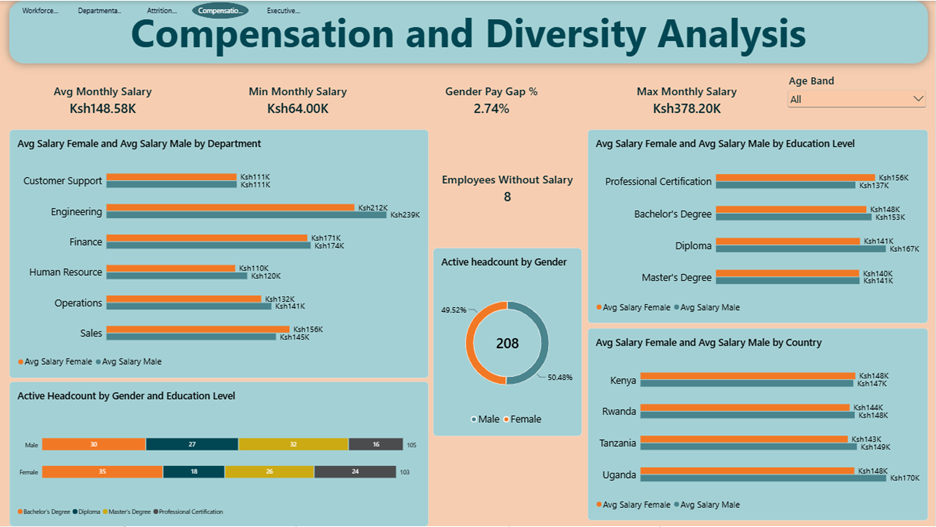

Layout of this report page (visuals, bound fields, positions):
{"tool":"powerbi","page":{"name":"Compensation and Diversity Analysis","canvas":[1920,1080],"ordinal":4},"visuals":[{"type":"textbox","box":[19.1,0,1887.3,128.8],"z":0},{"type":"clusteredBarChart","fields":{"Category":["Workforce Data.Department Hierarchy.Department","Workforce Data.Department Hierarchy.Job Role"],"Y":["Workforce Data.Avg Salary Female","Workforce Data.Avg Salary Male"]},"box":[19.1,264.8,861.3,510.6],"z":1000},{"type":"barChart","fields":{"Category":["Workforce Data.Gender"],"Series":["Workforce Data.Education Level"],"Y":["Workforce Data.Active Headcount"]},"box":[19.1,782.6,861.3,298.2],"z":2000},{"type":"donutChart","title":"Active headcount by Gender","fields":{"Category":["Workforce Data.Gender"],"Y":["Workforce Data.Active Headcount"]},"box":[889.9,508.2,305.4,386.5],"z":3000},{"type":"slicer","fields":{"Values":["Workforce Data.Age Band"]},"box":[1612.9,147.4,294.8,116.2],"z":4000},{"type":"clusteredBarChart","fields":{"Category":["Workforce Data.Education Level"],"Y":["Workforce Data.Avg Salary Female","Workforce Data.Avg Salary Male"]},"box":[1207.6,266,699.6,397.7],"z":5000},{"type":"clusteredBarChart","fields":{"Category":["Location.Country Hierarchy.Country","Location.Country Hierarchy.Location"],"Y":["Workforce Data.Avg Salary Female","Workforce Data.Avg Salary Male"]},"box":[1207.6,673.3,699.6,395.3],"z":6000},{"type":"cardVisual","fields":{"Data":["Workforce Data.Avg Monthly Salary"]},"box":[64.4,147.9,293.5,112.1],"z":7000},{"type":"cardVisual","fields":{"Data":["Workforce Data.Gender Pay Gap %"]},"box":[864.9,147.9,293.5,112.1],"z":8000},{"type":"cardVisual","fields":{"Data":["Workforce Data.Max Monthly Salary"]},"box":[1265.1,147.9,293.5,112.1],"z":9000},{"type":"cardVisual","fields":{"Data":["Workforce Data.Min Monthly Salary"]},"box":[464.6,147.9,293.5,112.1],"z":10000},{"type":"pageNavigator","box":[19.1,2.4,620.3,35.8],"z":11000},{"type":"cardVisual","fields":{"Data":["Workforce Data.Employees Without Salary"]},"box":[889.9,329.3,305.4,112.1],"z":12000}]}

Visuals, with their boxes in screenshot pixels (x1, y1, x2, y2), scaled from the page's 1920x1080 canvas onto the 936x527 screenshot:
textbox: box(9, 0, 929, 63)
clusteredBarChart - Workforce Data.Department Hierarchy.Department x Workforce Data.Department Hierarchy.Job Role: box(9, 129, 429, 378)
barChart - Workforce Data.Gender x Workforce Data.Education Level: box(9, 382, 429, 526)
"Active headcount by Gender" donutChart: box(434, 248, 583, 437)
slicer - Workforce Data.Age Band: box(786, 72, 930, 129)
clusteredBarChart - Workforce Data.Education Level x Workforce Data.Avg Salary Female: box(589, 130, 930, 324)
clusteredBarChart - Location.Country Hierarchy.Country x Location.Country Hierarchy.Location: box(589, 329, 930, 521)
cardVisual - Workforce Data.Avg Monthly Salary: box(31, 72, 174, 127)
cardVisual - Workforce Data.Gender Pay Gap %: box(422, 72, 565, 127)
cardVisual - Workforce Data.Max Monthly Salary: box(617, 72, 760, 127)
cardVisual - Workforce Data.Min Monthly Salary: box(226, 72, 370, 127)
pageNavigator: box(9, 1, 312, 19)
cardVisual - Workforce Data.Employees Without Salary: box(434, 161, 583, 215)
